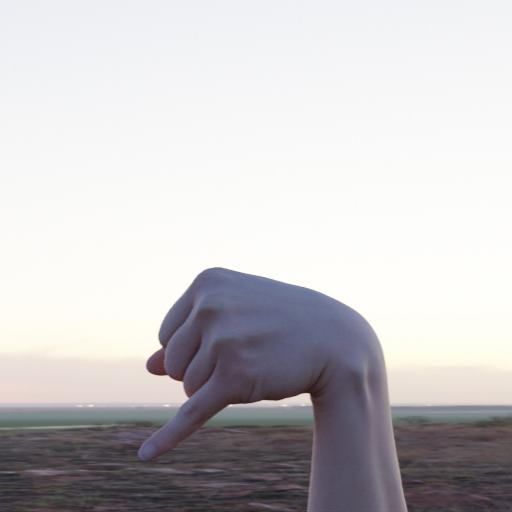J: (116, 247, 400, 477)
